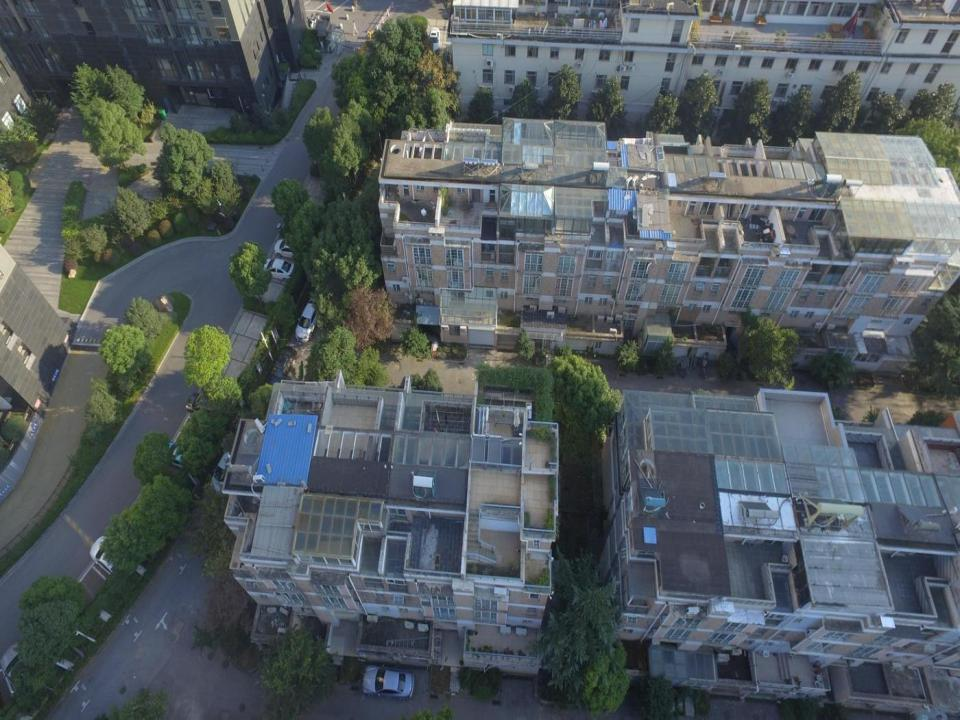car: (89, 534, 132, 581), (361, 663, 414, 701), (0, 641, 30, 698), (294, 297, 321, 344), (208, 452, 235, 496), (158, 440, 192, 469), (262, 258, 295, 282), (273, 236, 302, 258)
